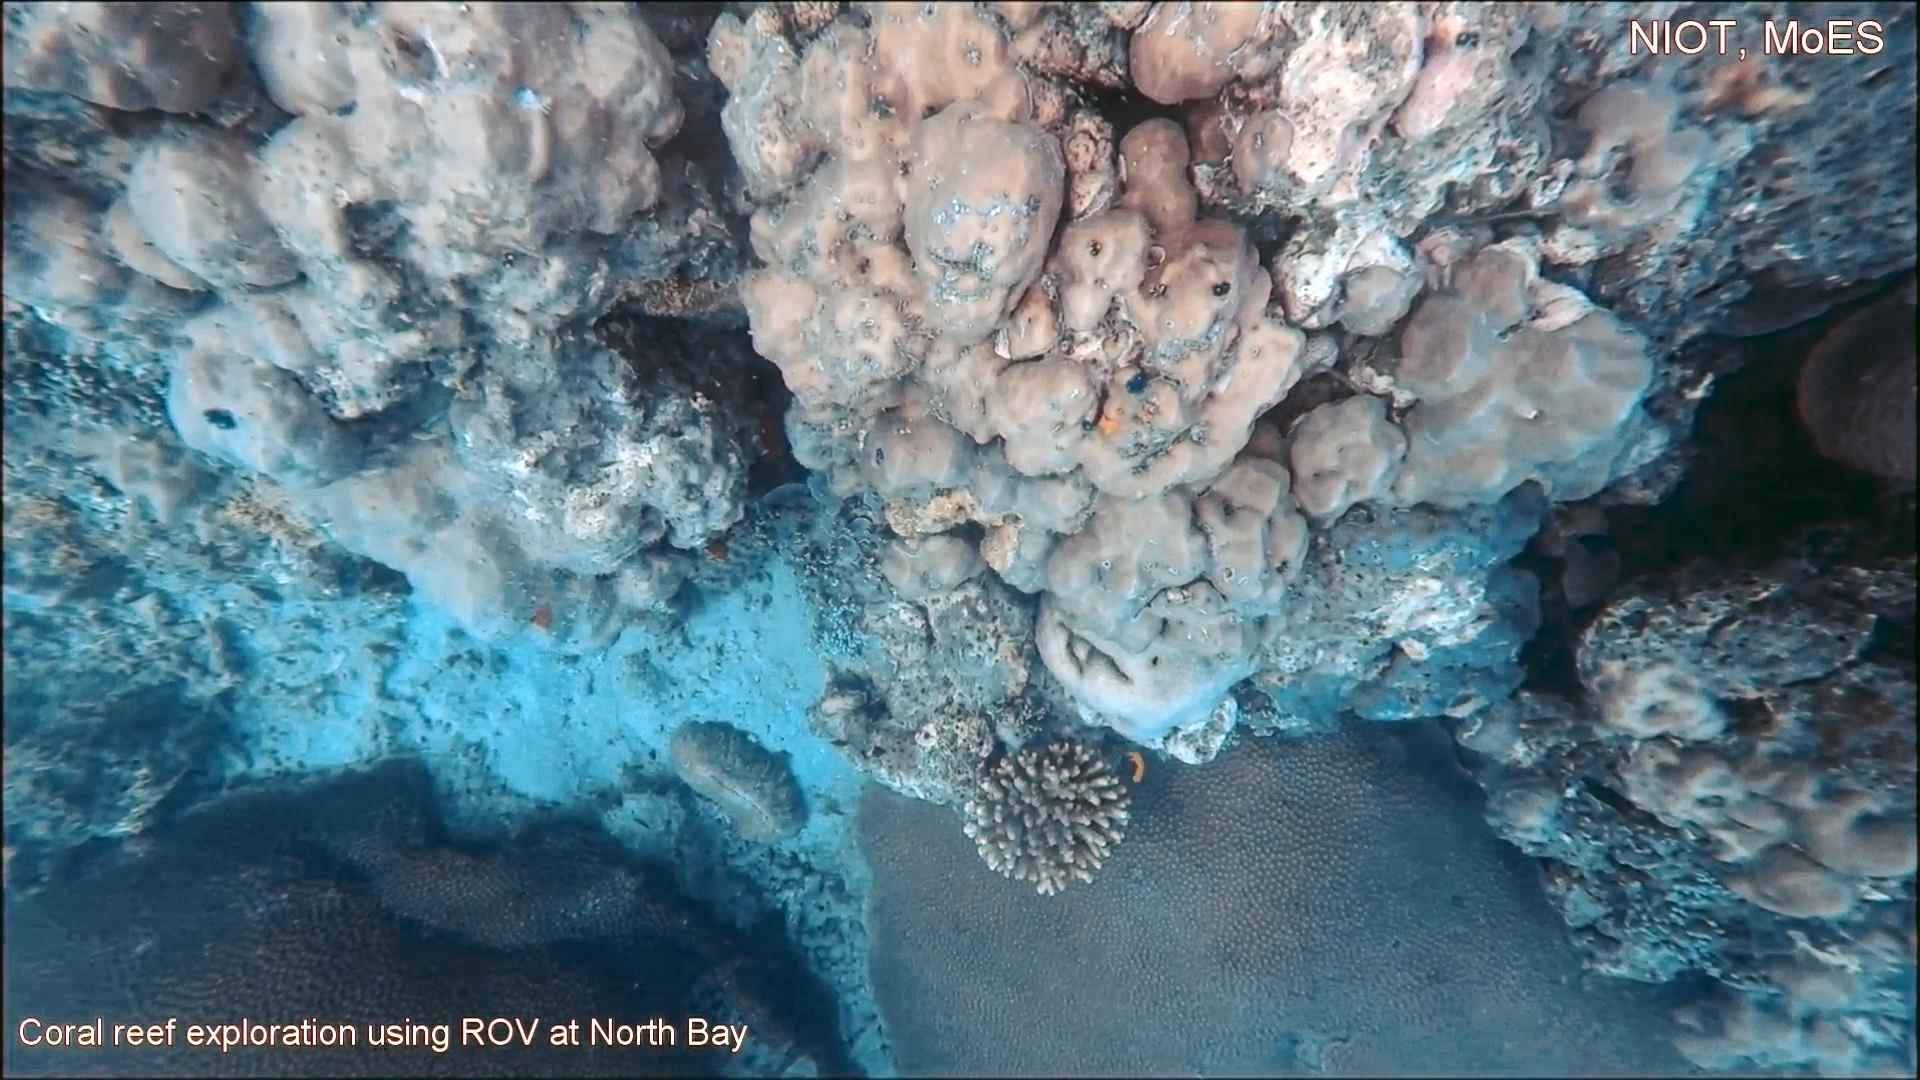Meandrina meandrites: (1784, 258, 1920, 489)
